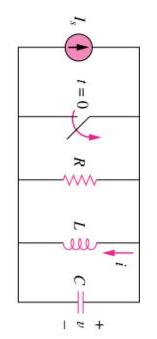inductor: (44, 231, 106, 259)
